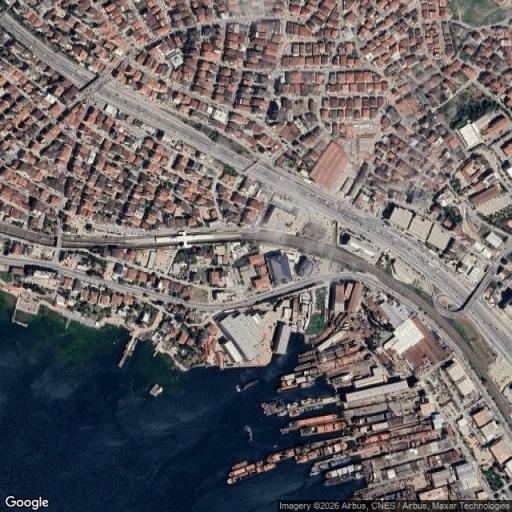ship: (227, 463, 277, 487), (296, 443, 348, 464), (267, 444, 310, 462), (322, 471, 365, 487), (290, 414, 337, 428), (301, 422, 346, 436), (310, 457, 352, 472), (279, 367, 319, 382), (228, 461, 264, 477), (326, 464, 360, 479), (277, 381, 315, 394), (281, 373, 319, 386), (237, 378, 260, 393), (293, 361, 317, 372), (297, 354, 317, 363), (296, 349, 316, 357), (244, 424, 253, 441), (302, 397, 321, 405), (232, 461, 248, 470), (306, 404, 323, 411), (148, 384, 158, 395), (131, 339, 138, 351), (154, 387, 163, 396), (288, 402, 298, 408), (129, 352, 133, 357)
